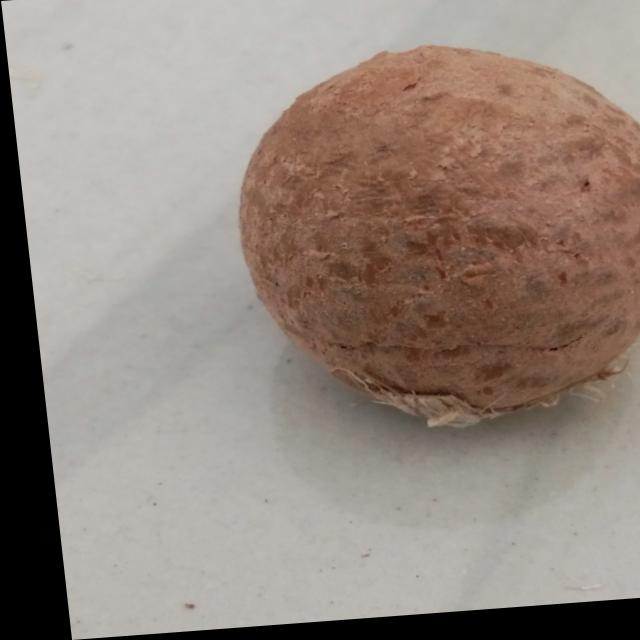phatora: (199, 27, 640, 447)
